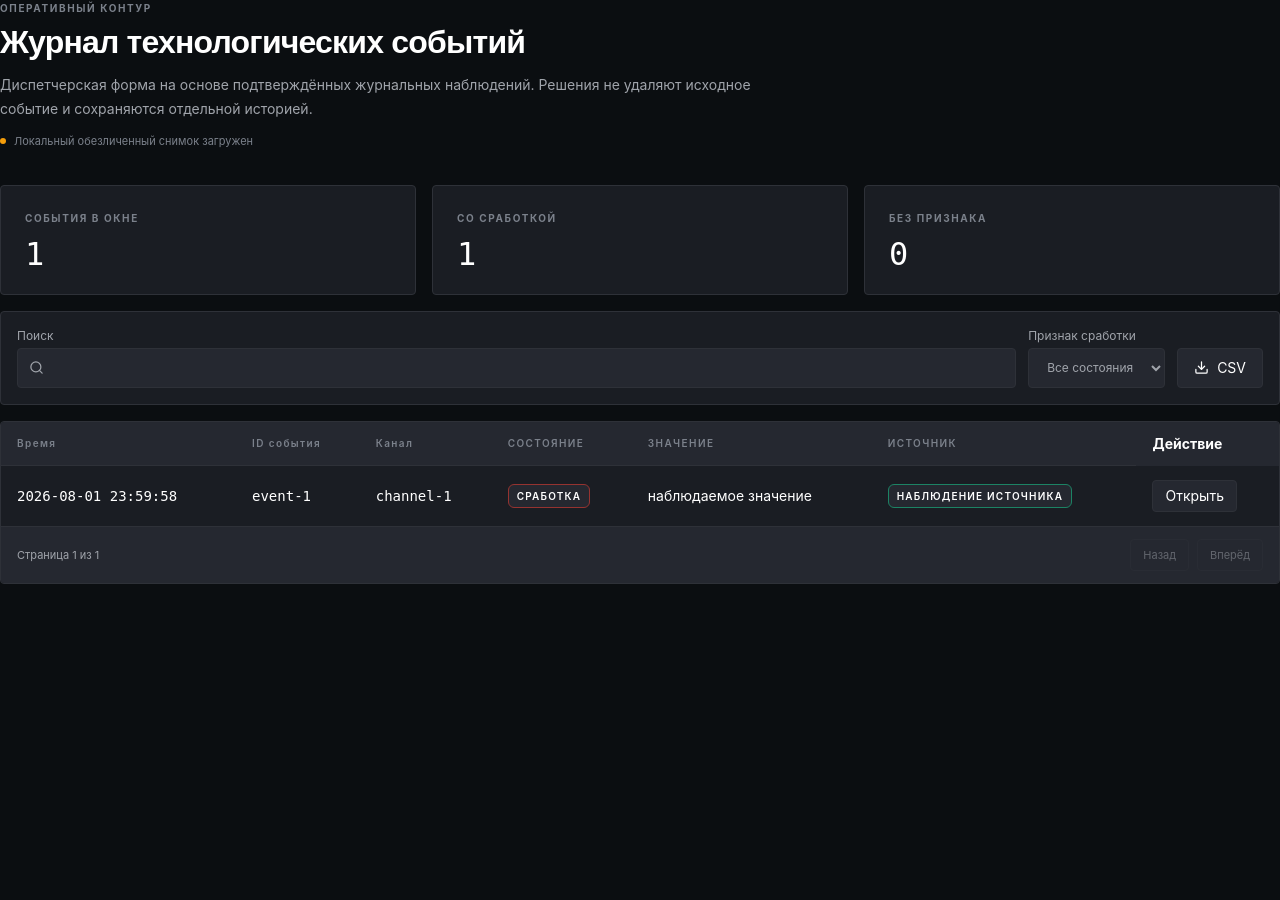
интерфейс локального снимка › открывает проверяемую карточку тревоги с происхождением и действием
This screenshot has width=1280, height=900.
Click the button "Открыть" at (1195, 496), box [1152,480,1237,512]
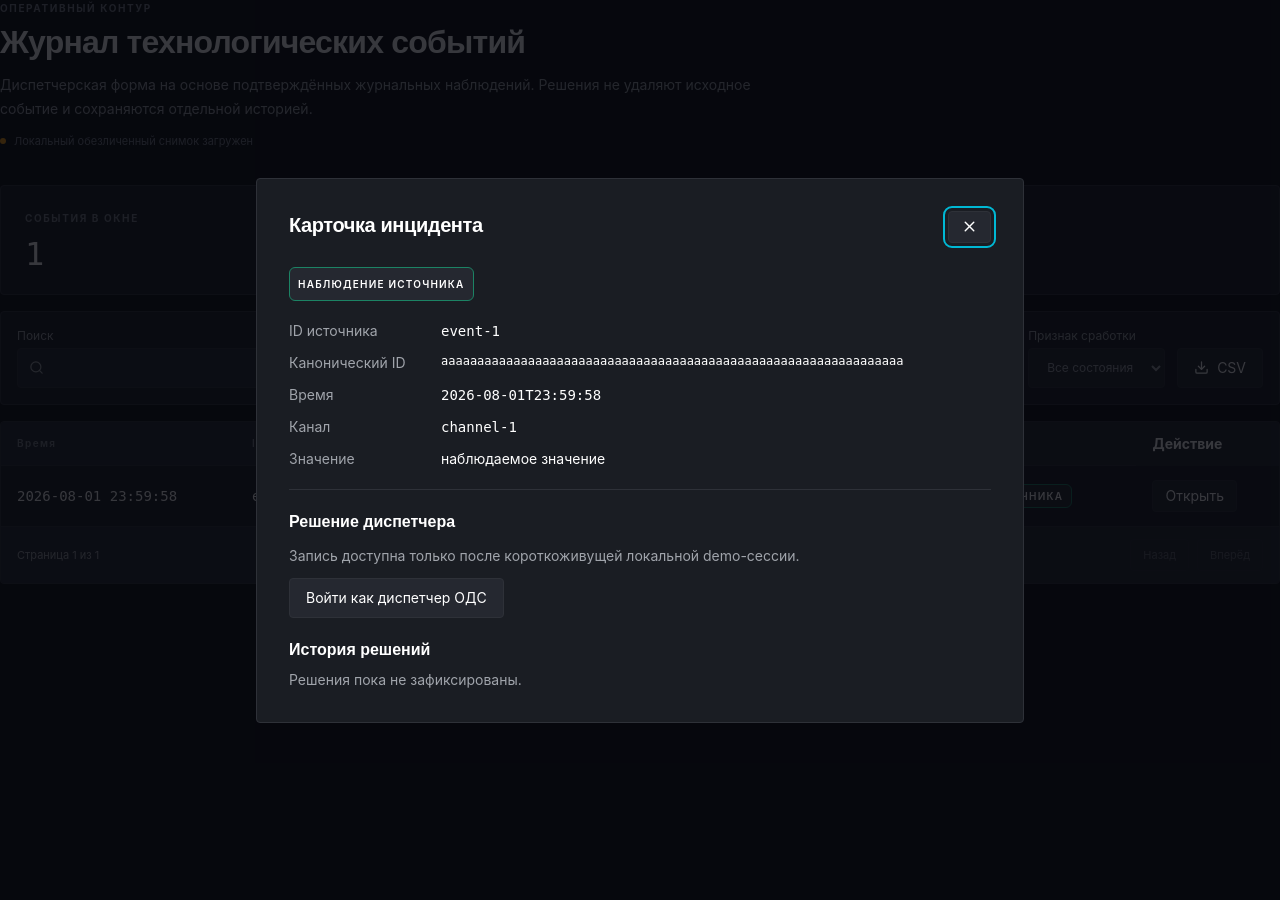
Result: the text "Наблюдение источника" is shown at [289,266,474,300]
Result: the button "Войти как диспетчер ОДС" is shown at [289,578,504,618]
